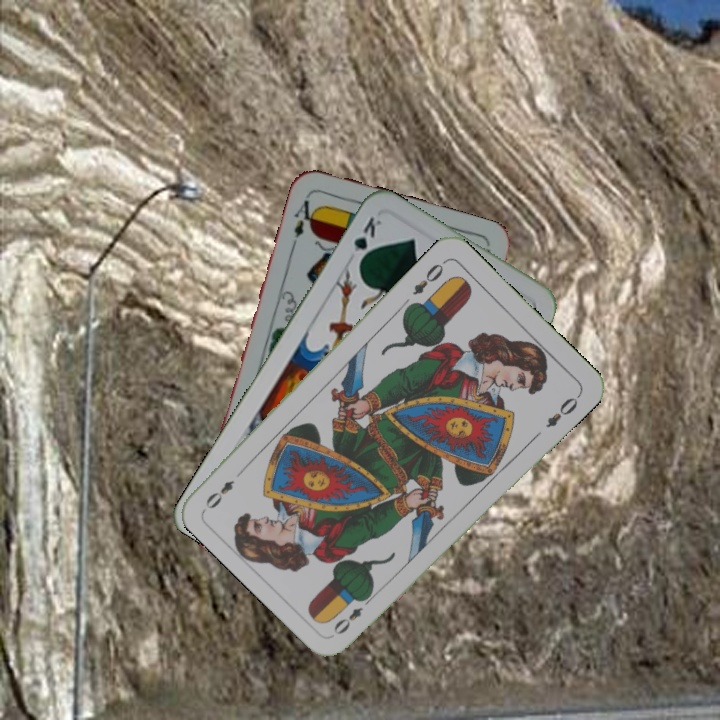EA: (289, 191, 321, 241)
EO: (329, 591, 376, 638), (408, 256, 449, 298)
GK: (348, 213, 384, 268)
